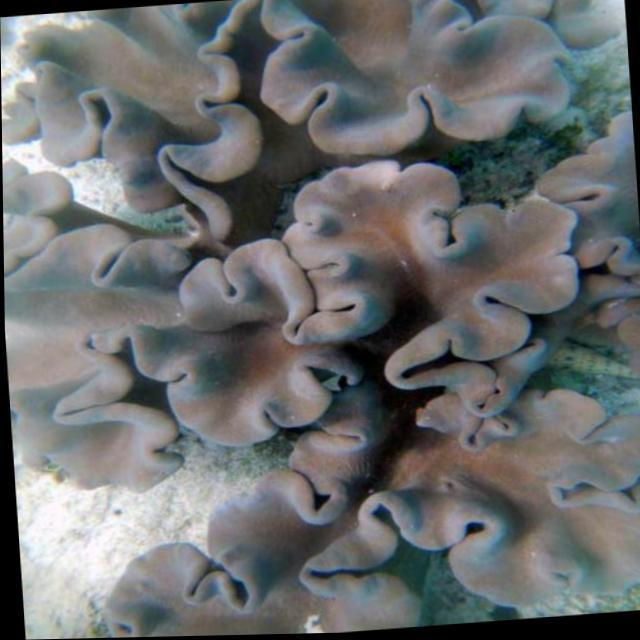Dead Coral: (33, 35, 626, 632)
